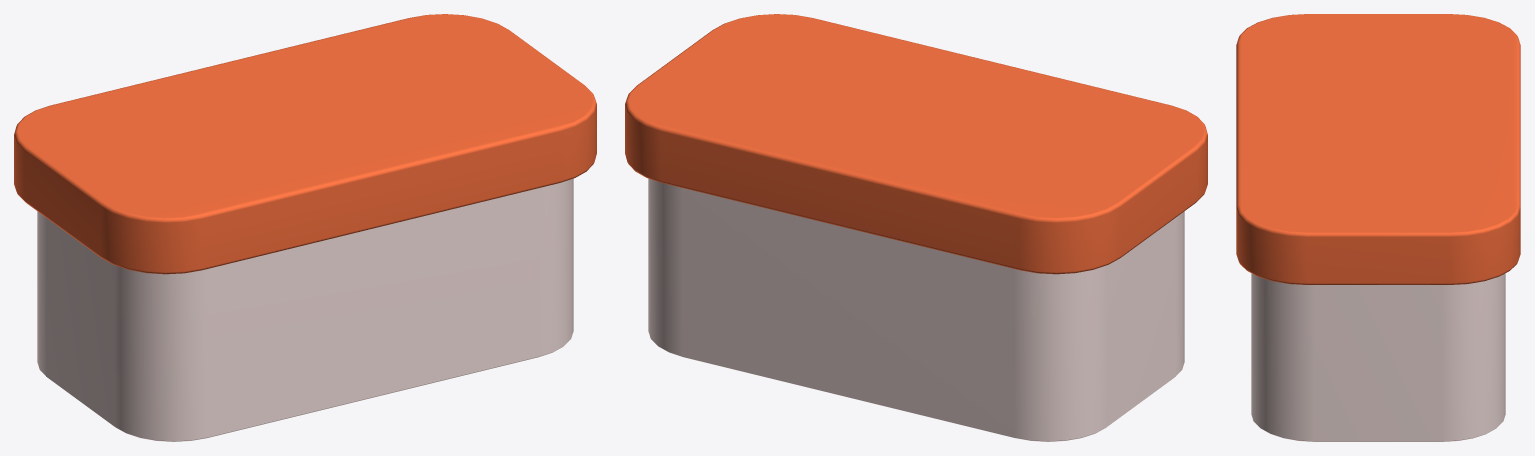
Rendered from City_15_Table_1.glb.
The picture shows the model from 3 angles, left to right: view 1: azimuth 30°, elevation 25°; view 2: azimuth 150°, elevation 25°; view 3: azimuth 270°, elevation 25°; orthographic projection. The views are drawn at different scales.
Parts seen in each view (by area): view 1: City_15_Table_1; view 2: City_15_Table_1; view 3: City_15_Table_1.
Part boxes in pixels (x1,y1,x2,y2): City_15_Table_1: (14, 14, 596, 441); City_15_Table_1: (625, 14, 1207, 441); City_15_Table_1: (1236, 14, 1520, 441).
Bounding box in the file's own units: 1.25 × 0.5725 × 0.6795.
Materials: 1 (1 with a texture image).
